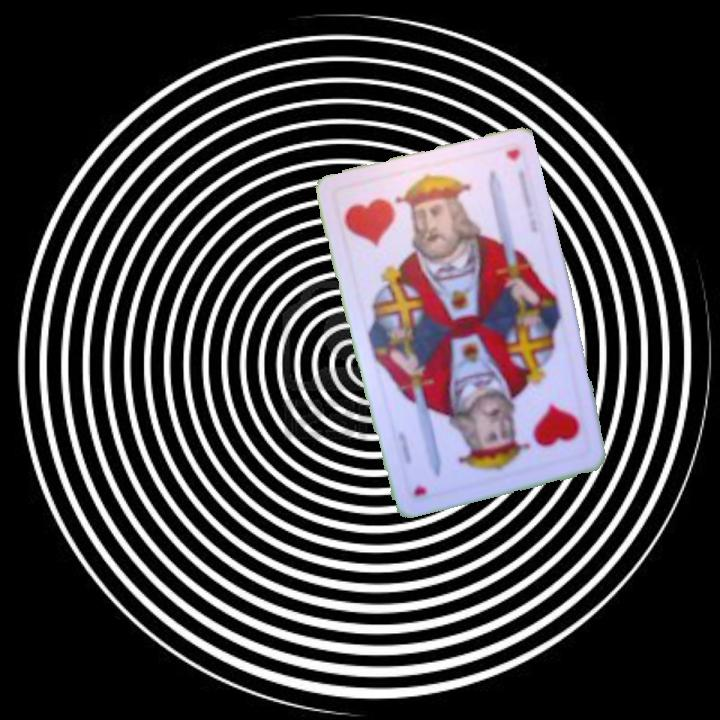h_k.png: (331, 165, 447, 272), (479, 372, 596, 478)
